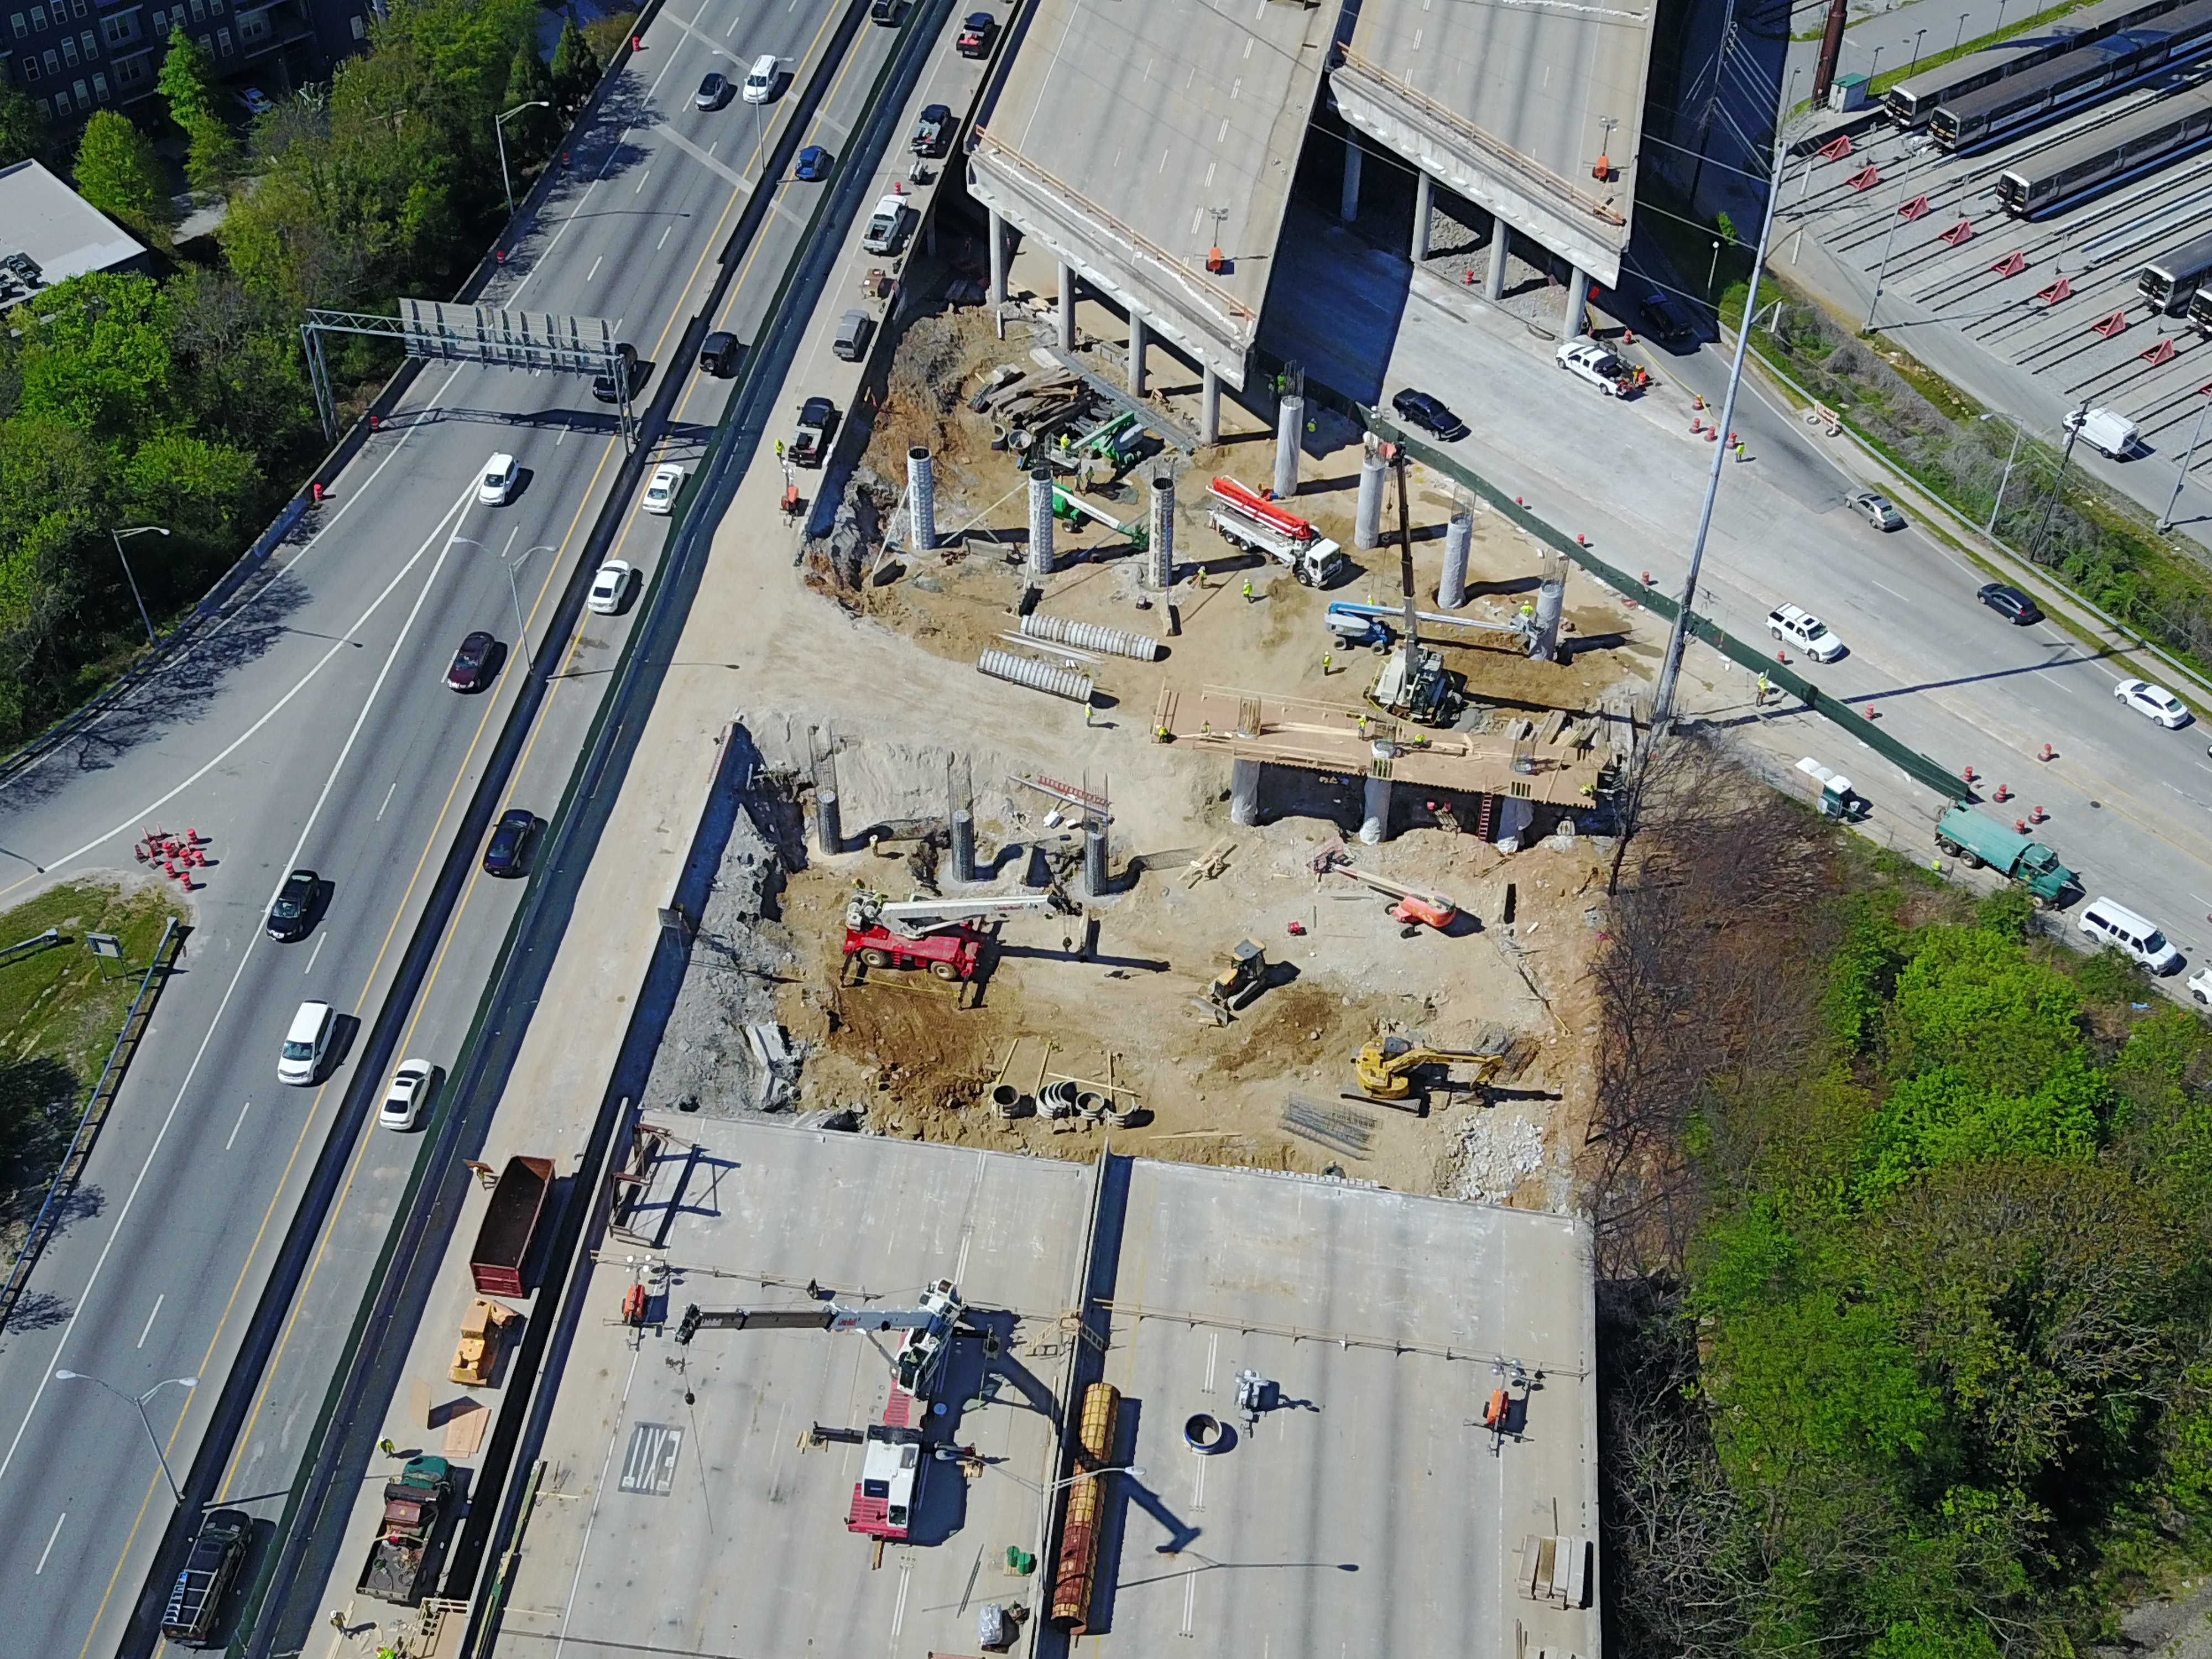crane: (671, 1276, 965, 1544), (1362, 427, 1460, 725), (840, 887, 1085, 983), (1202, 474, 1348, 589), (1338, 1032, 1533, 1117), (1322, 598, 1545, 657), (1306, 845, 1458, 929), (1050, 479, 1155, 552), (1042, 408, 1148, 469)
